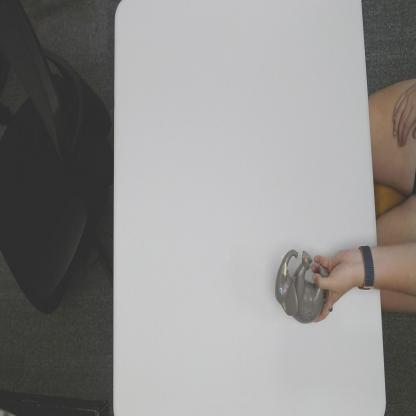Elephant: (274, 246, 329, 324)
Hand: (310, 246, 360, 324)
